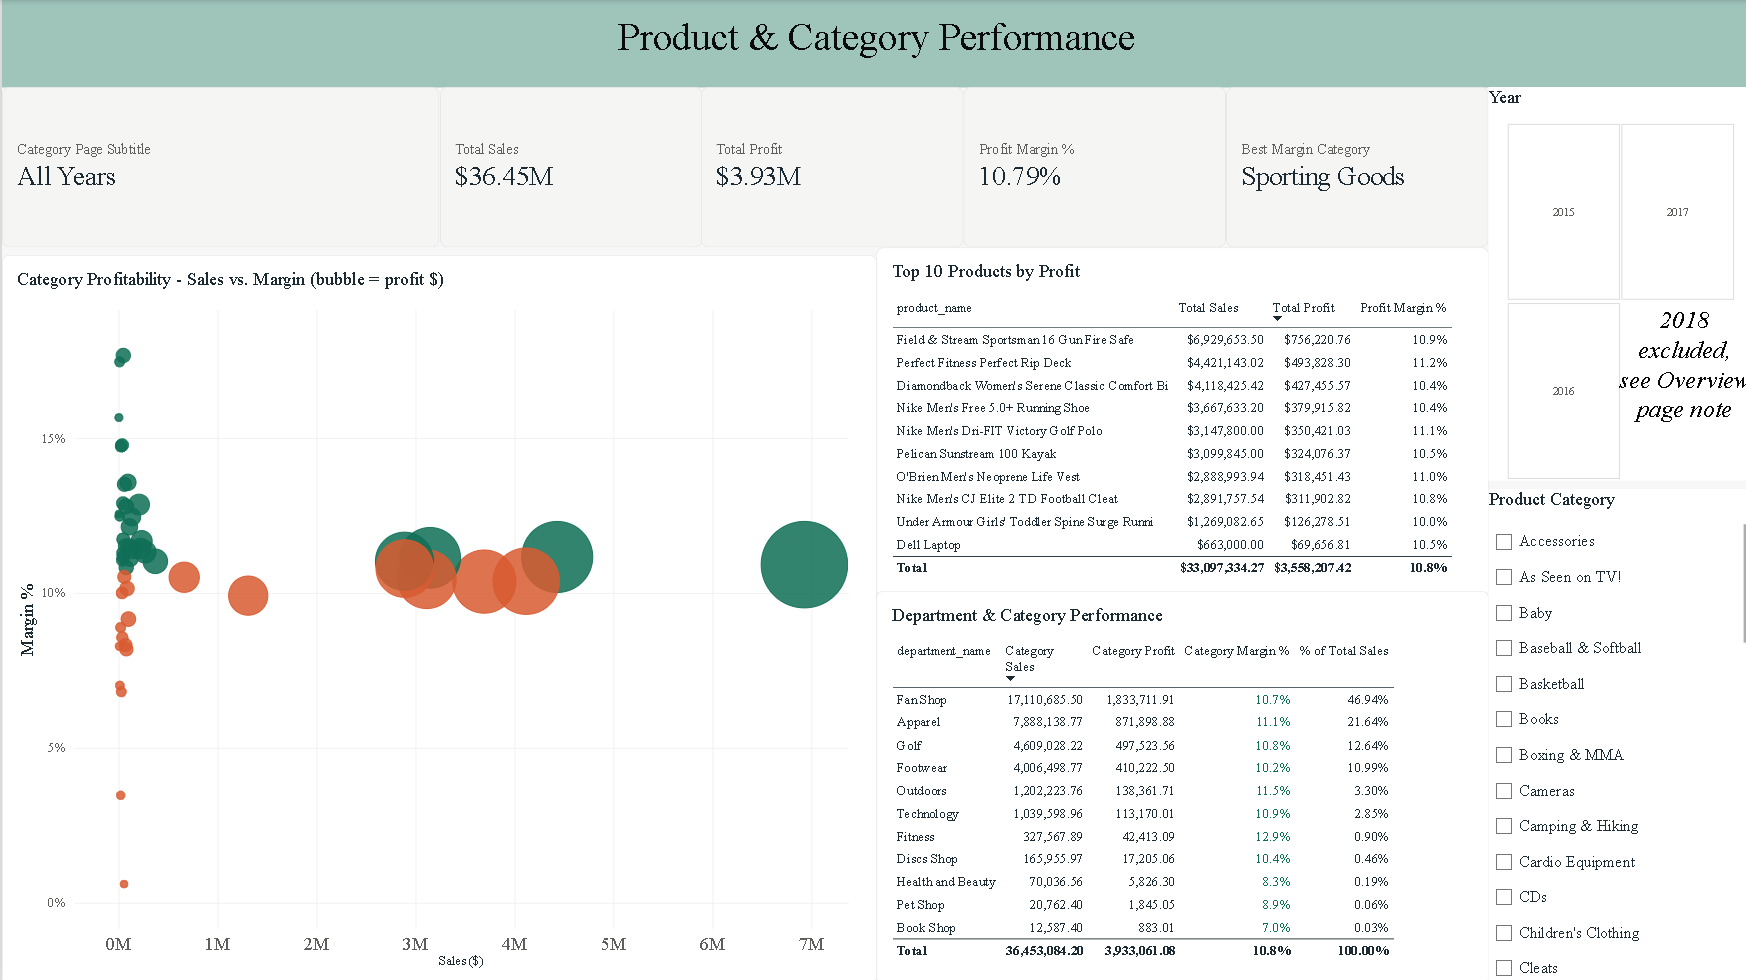

The page's visual inventory and layout, read from the dashboard file:
{"tool":"powerbi","page":{"name":"Product & Category","canvas":[1920,1080],"ordinal":2},"visuals":[{"type":"textbox","box":[0,0,1920,96],"z":0},{"type":"cardVisual","fields":{"Data":["_Measures.Category Page Subtitle"]},"box":[0,96,480,176],"z":1},{"type":"cardVisual","fields":{"Data":["_Measures.Total Sales"]},"box":[480,96,288,176],"z":2},{"type":"cardVisual","fields":{"Data":["_Measures.Total Profit"]},"box":[768,96,288,176],"z":3},{"type":"cardVisual","fields":{"Data":["_Measures.Profit Margin %"]},"box":[1056,96,288,176],"z":4},{"type":"cardVisual","fields":{"Data":["_Measures.Best Margin Category"]},"box":[1344,96,288,176],"z":5},{"type":"scatterChart","title":"Category Profitability - Sales vs. Margin (bubble = profit $)","fields":{"Series":["gold dim_product.category_name"],"Size":["_Measures.Category Profit"],"X":["_Measures.Category Sales"],"Y":["_Measures.Category Margin %"]},"box":[0,280,960,800],"z":6},{"type":"tableEx","title":"Top 10 Products by Profit","fields":{"Values":["gold dim_product.product_name","_Measures.Total Sales","_Measures.Total Profit","_Measures.Category Margin %"]},"box":[960,272,672,384],"z":7},{"type":"tableEx","title":"Department & Category Performance","fields":{"Values":["gold dim_product.department_name","_Measures.Category Sales","_Measures.Category Profit","_Measures.Category Margin %","_Measures.% of Total Sales"]},"box":[960,648,672,432],"z":8},{"type":"slicer","title":"Year","fields":{"Values":["gold dim_date.year"]},"box":[1632,96,288,432],"z":9,"group":"g1"},{"type":"slicer","title":"Product Category","fields":{"Values":["gold dim_product.category_name"]},"box":[1632,536,288,544],"z":10},{"type":"textbox","box":[1776,320,144,224],"z":11,"group":"g1"},{"type":"group","id":"g1","title":"Group 1","box":[1632,96,288,448],"z":12}]}

Visuals, with their boxes in screenshot pixels (x1, y1, x2, y2), scaled from the page's 1920x1080 canvas onto the 1746x980 screenshot:
textbox: (0, 0, 1745, 87)
cardVisual - _Measures.Category Page Subtitle: (0, 87, 436, 247)
cardVisual - _Measures.Total Sales: (436, 87, 698, 247)
cardVisual - _Measures.Total Profit: (698, 87, 960, 247)
cardVisual - _Measures.Profit Margin %: (960, 87, 1222, 247)
cardVisual - _Measures.Best Margin Category: (1222, 87, 1484, 247)
"Category Profitability - Sales vs. Margin (bubble = profit $)" scatterChart: (0, 254, 873, 979)
"Top 10 Products by Profit" tableEx: (873, 247, 1484, 595)
"Department & Category Performance" tableEx: (873, 588, 1484, 979)
"Year" slicer: (1484, 87, 1745, 479)
"Product Category" slicer: (1484, 486, 1745, 979)
textbox: (1615, 290, 1745, 494)
"Group 1" group: (1484, 87, 1745, 494)
